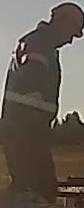helmet: (48, 1, 84, 39)
vest: (3, 32, 62, 148)
